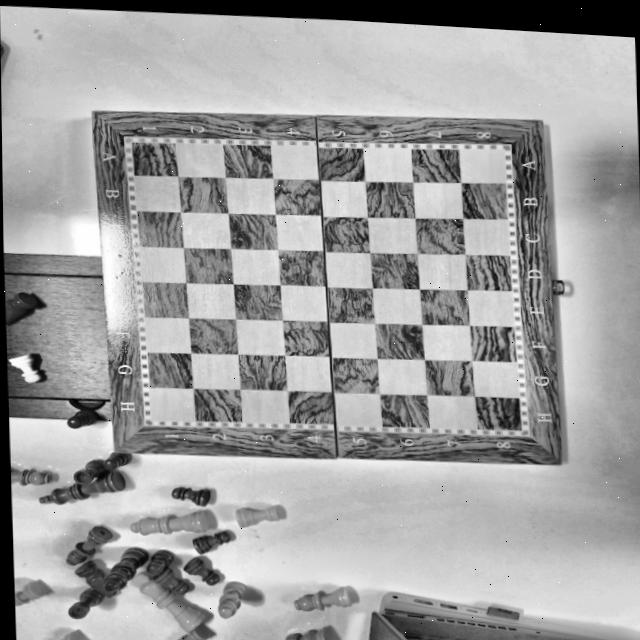chessboard: (90, 112, 559, 464)
